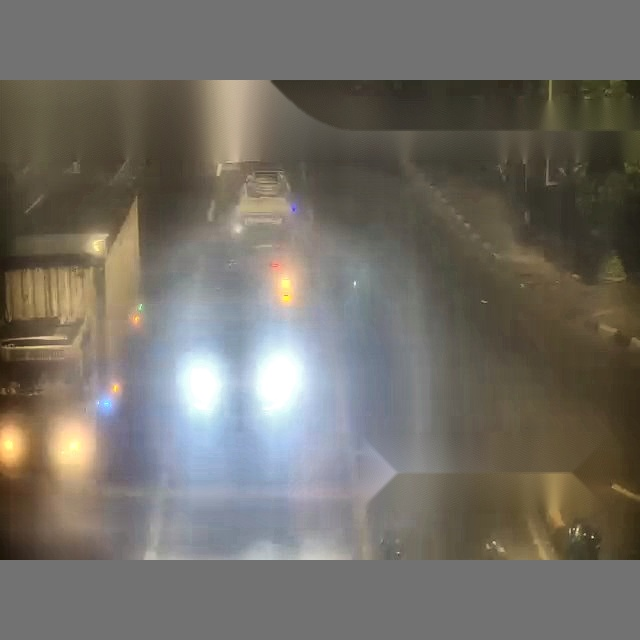Motor: (0, 415, 29, 477)
Truk: (0, 85, 141, 535)
